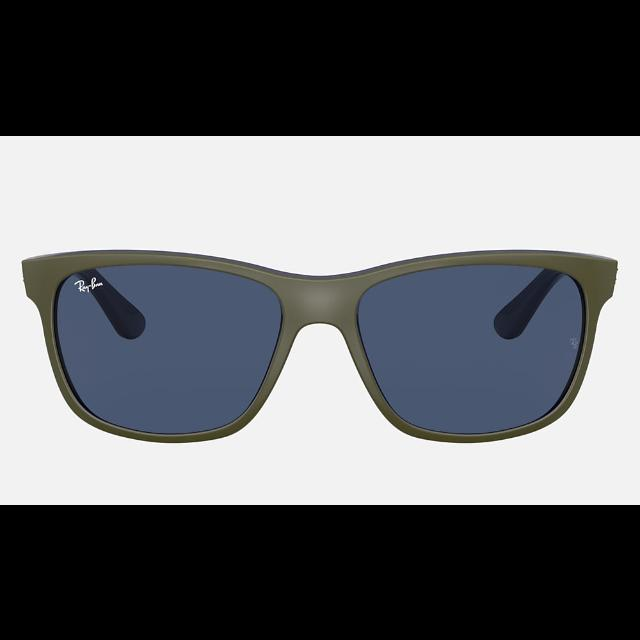Sunglasses: (20, 249, 622, 443)
